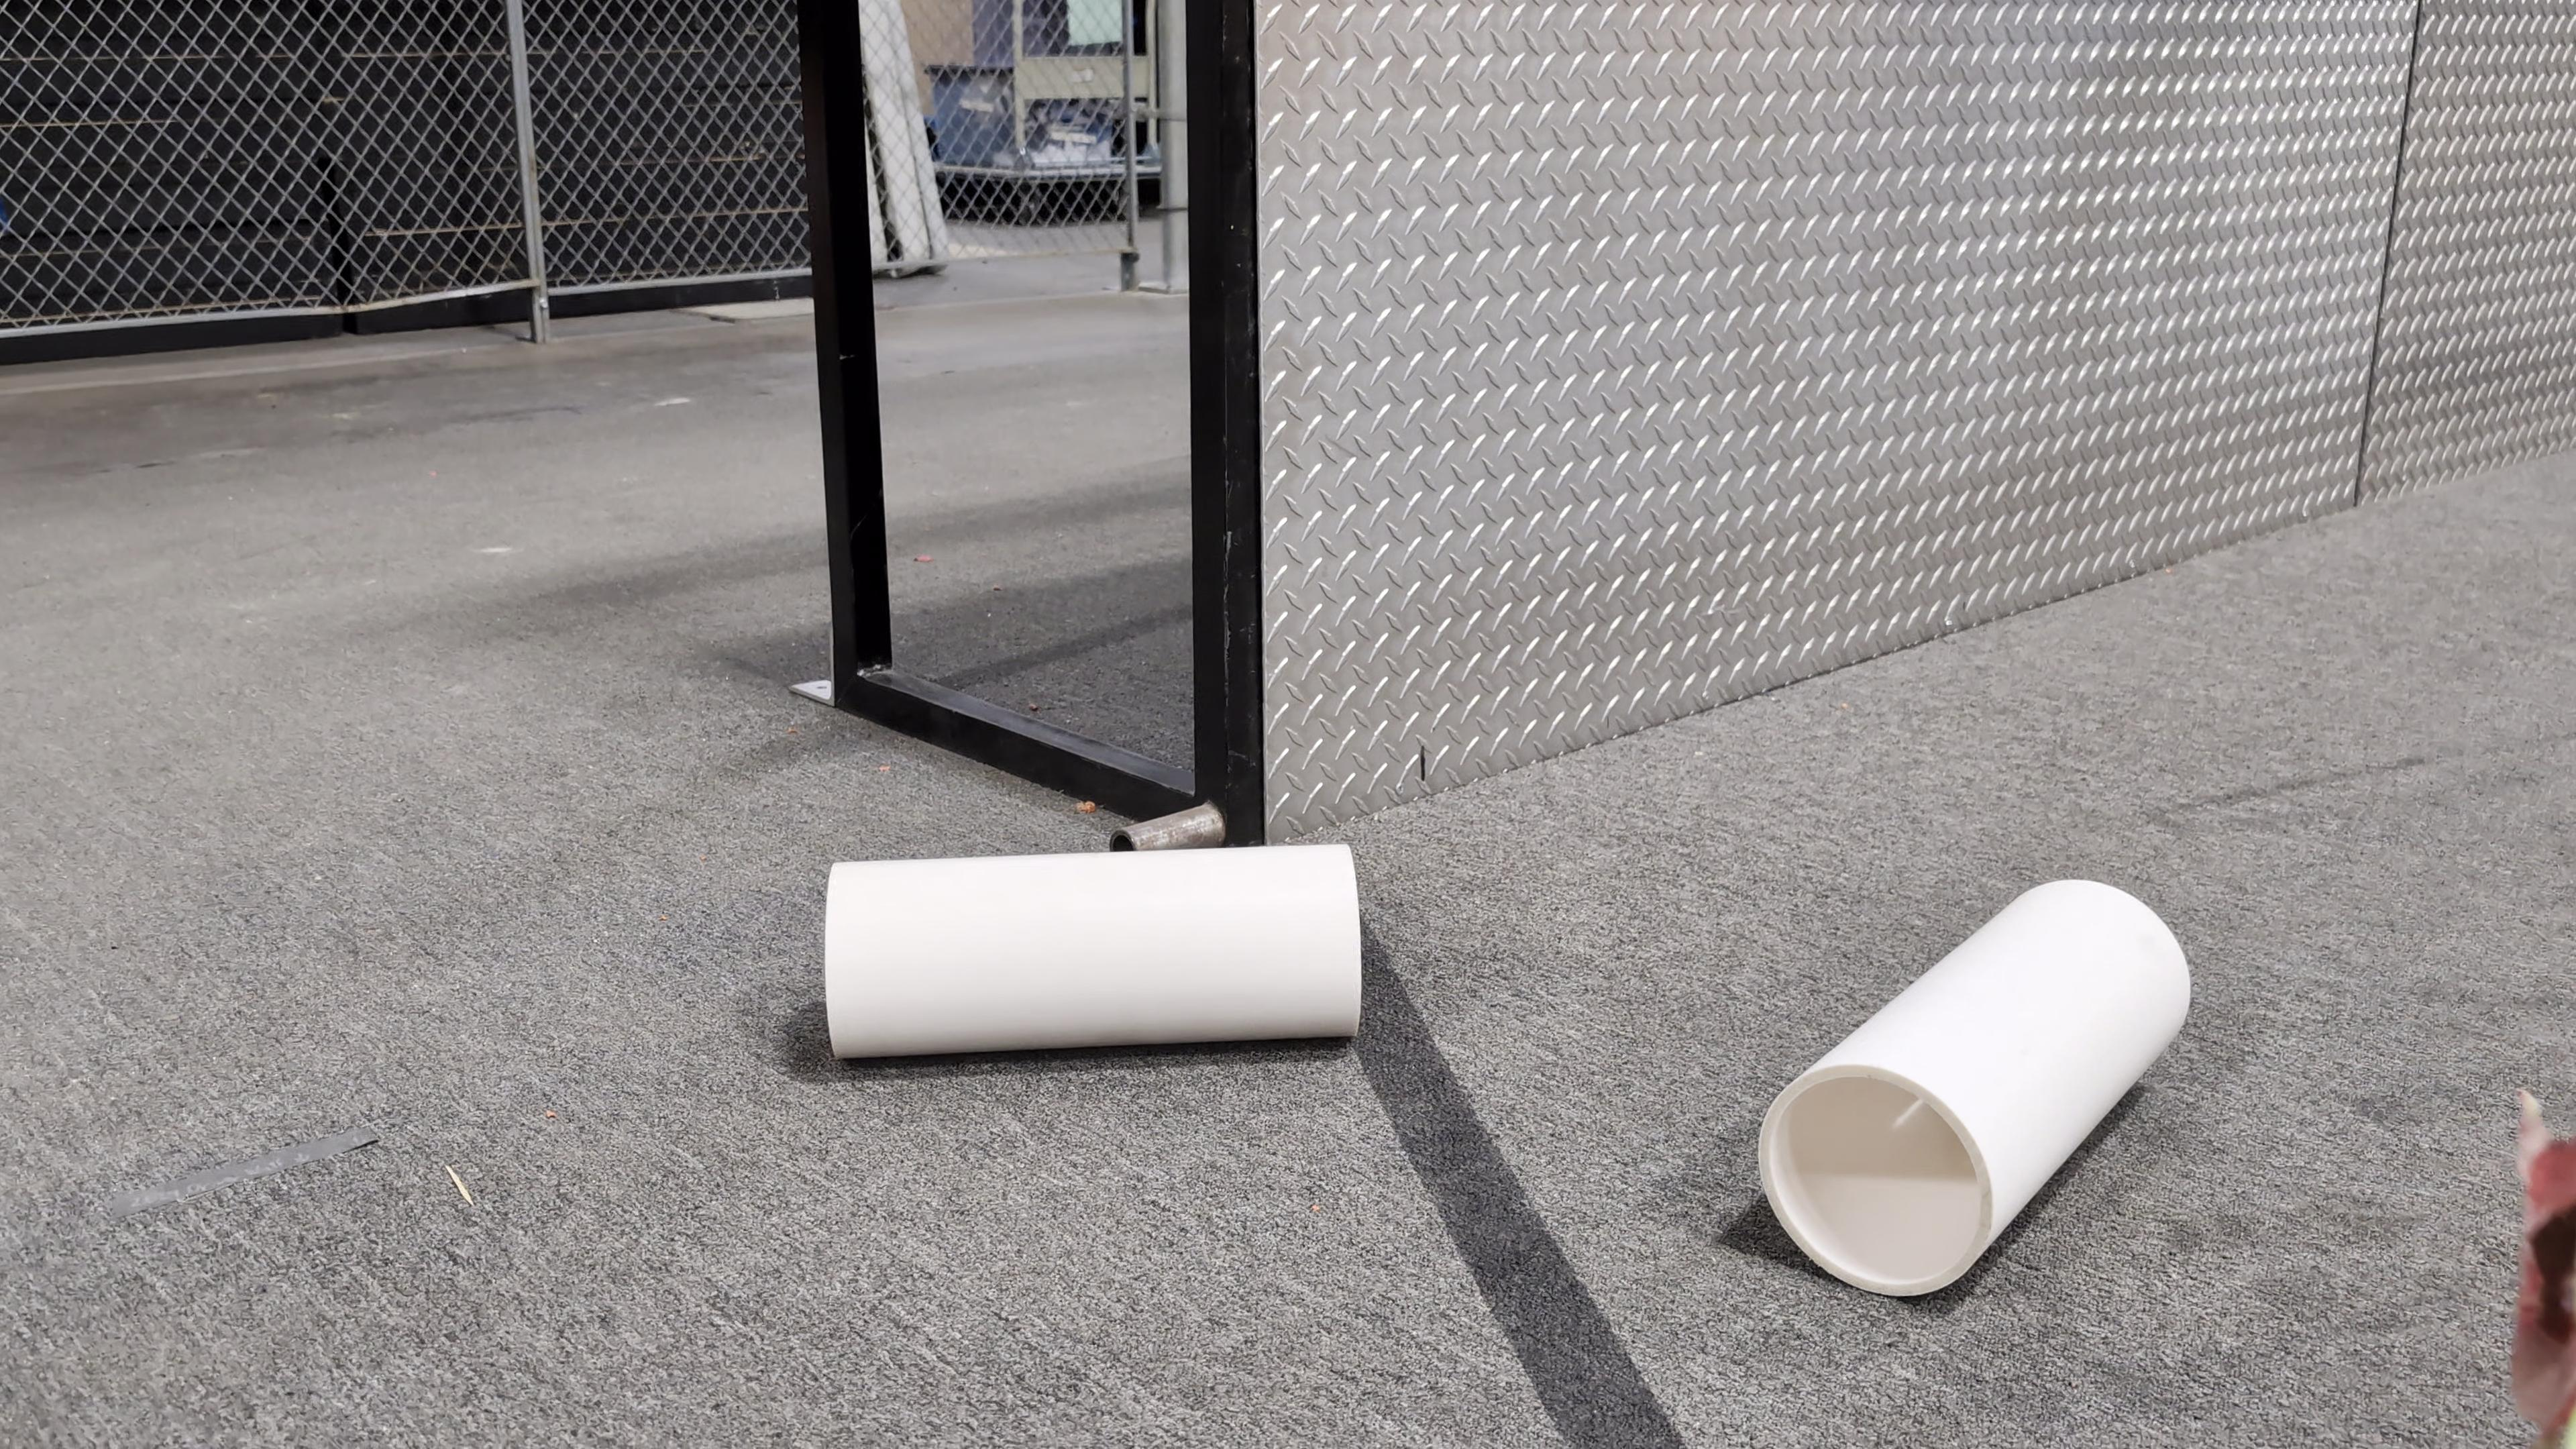coral: (1755, 874, 2192, 1295), (821, 837, 1368, 1060)
